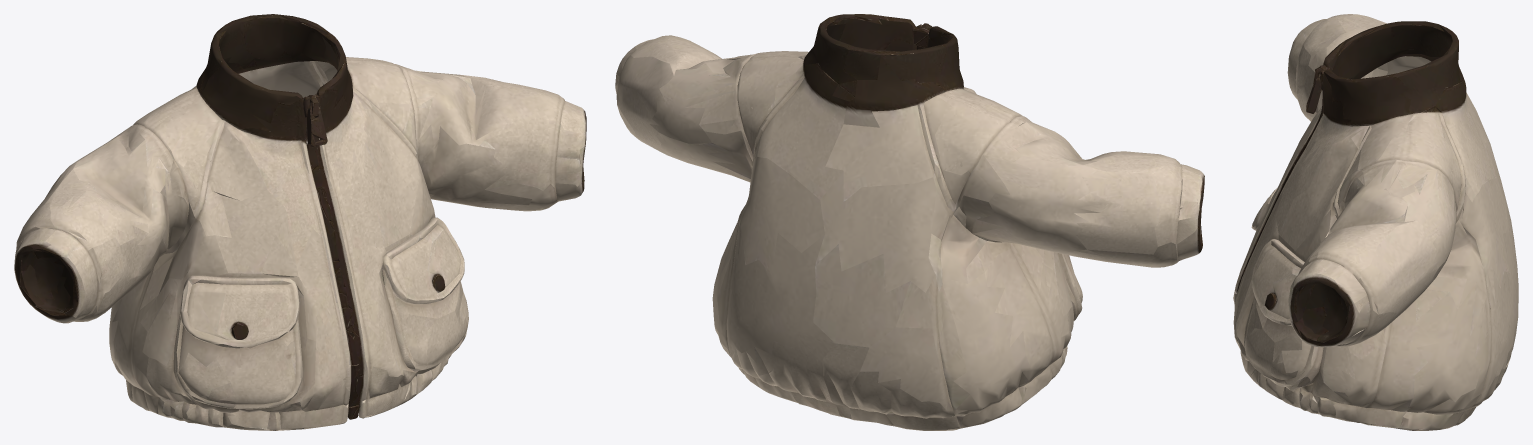
The model's file is oatmeal-utility-blouson-web.glb.
3 renders of one model, left to right at view 1: azimuth 30°, elevation 25°; view 2: azimuth 150°, elevation 25°; view 3: azimuth 270°, elevation 25°, orthographic. The views are drawn at different scales.
Parts seen in each view (by area): view 1: Mesh_0; view 2: Mesh_0; view 3: Mesh_0.
Part boxes in pixels (left/top/right/bottom): Mesh_0: left=14, top=14, right=586, bottom=430; Mesh_0: left=615, top=14, right=1204, bottom=430; Mesh_0: left=1233, top=14, right=1518, bottom=430.
Bounding box in the file's own units: 1.9 × 1.13 × 0.8547.
1 material, 1 textured.
